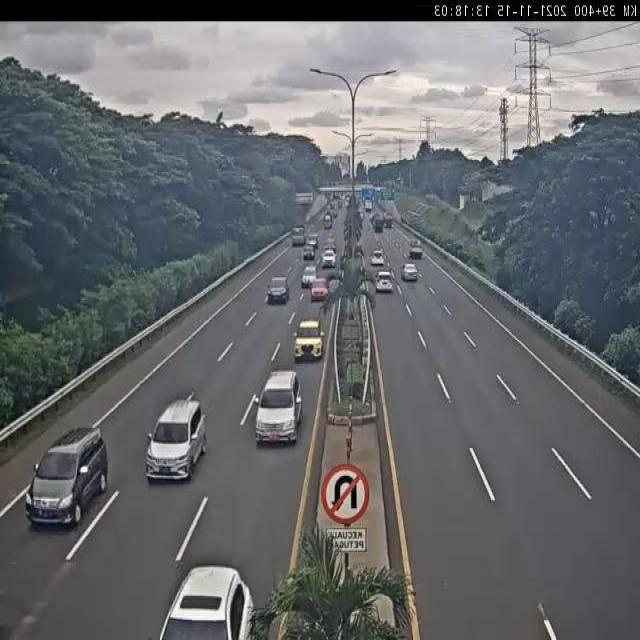Car: (25, 426, 109, 527), (154, 564, 255, 639), (144, 400, 208, 484), (255, 371, 302, 446), (293, 318, 324, 362), (267, 276, 291, 304), (375, 270, 394, 292), (301, 265, 317, 288), (402, 262, 419, 282), (409, 241, 423, 259), (292, 229, 306, 247)
